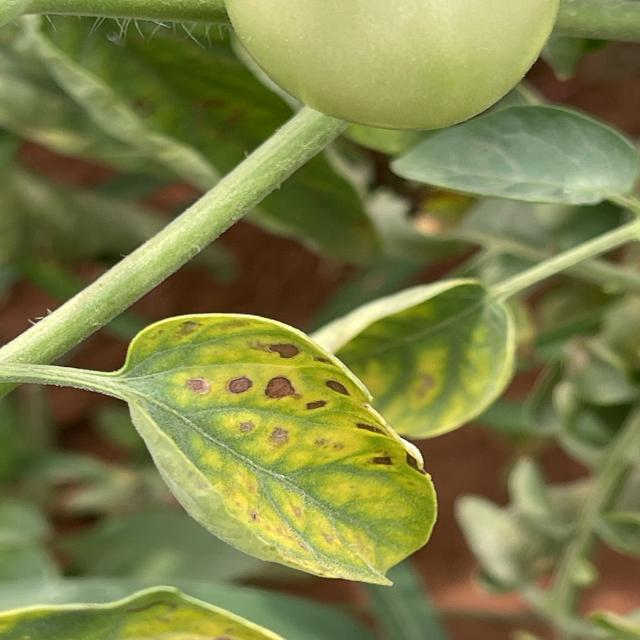tomato_early blight: (124, 314, 436, 585), (271, 269, 514, 440)
tomato_healthy: (397, 104, 640, 209)
